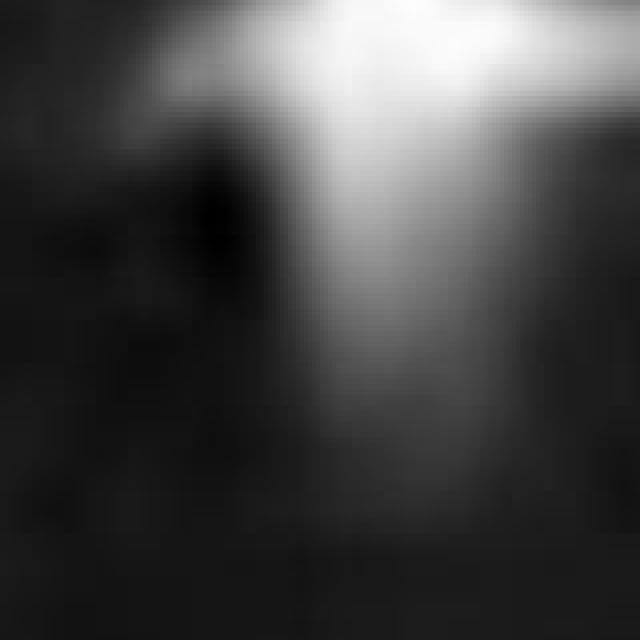person: (253, 1, 529, 433)
